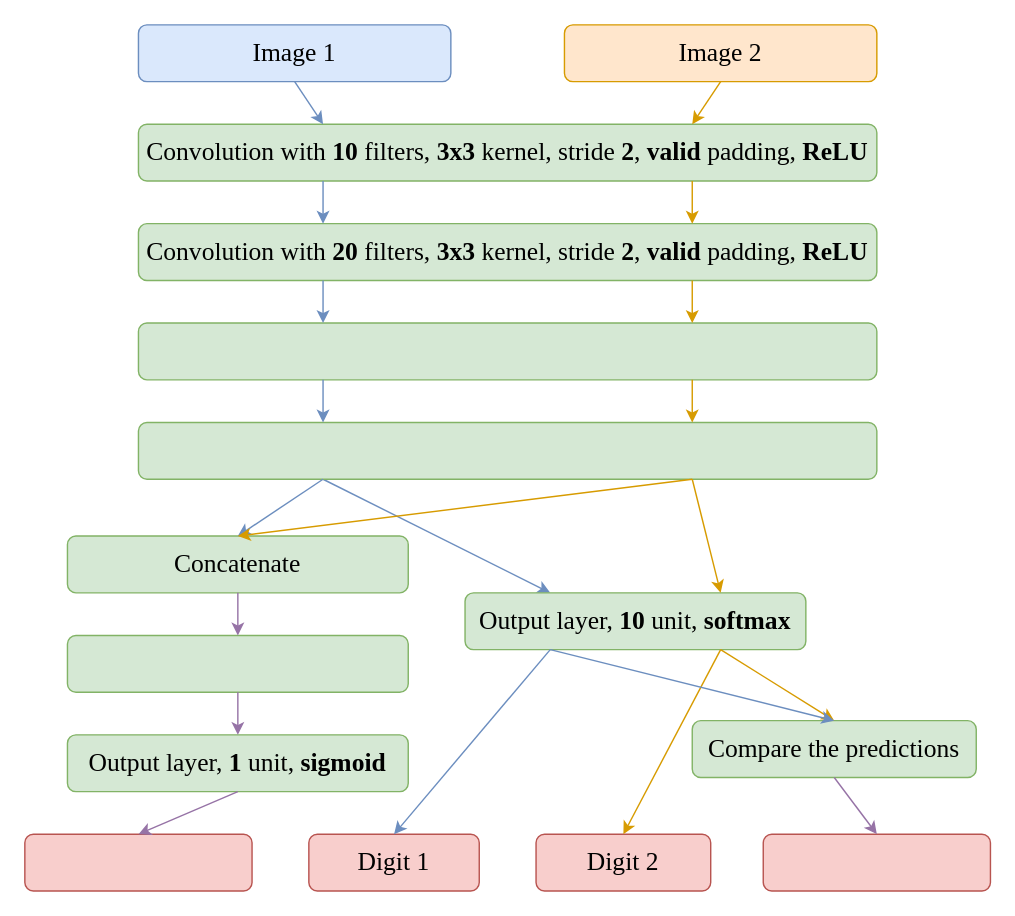
Image size: 1015x916. Some labels were removed from this diagram. The shapes that lost their labels are listed below. From the top down, each one's centre as x and y in pixels, then its label:
At [507,351]: "Flattening layer".
At [507,450]: "Dense layer with 200 units, ReLU activation".
At [237,663]: "Dense layer, 200 units, ReLU".
At [137,862]: "Direct comparison".
At [876,862]: "Indirect comparison".
